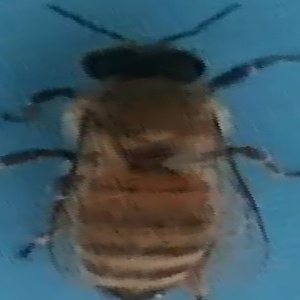bee: (5, 17, 295, 300)
